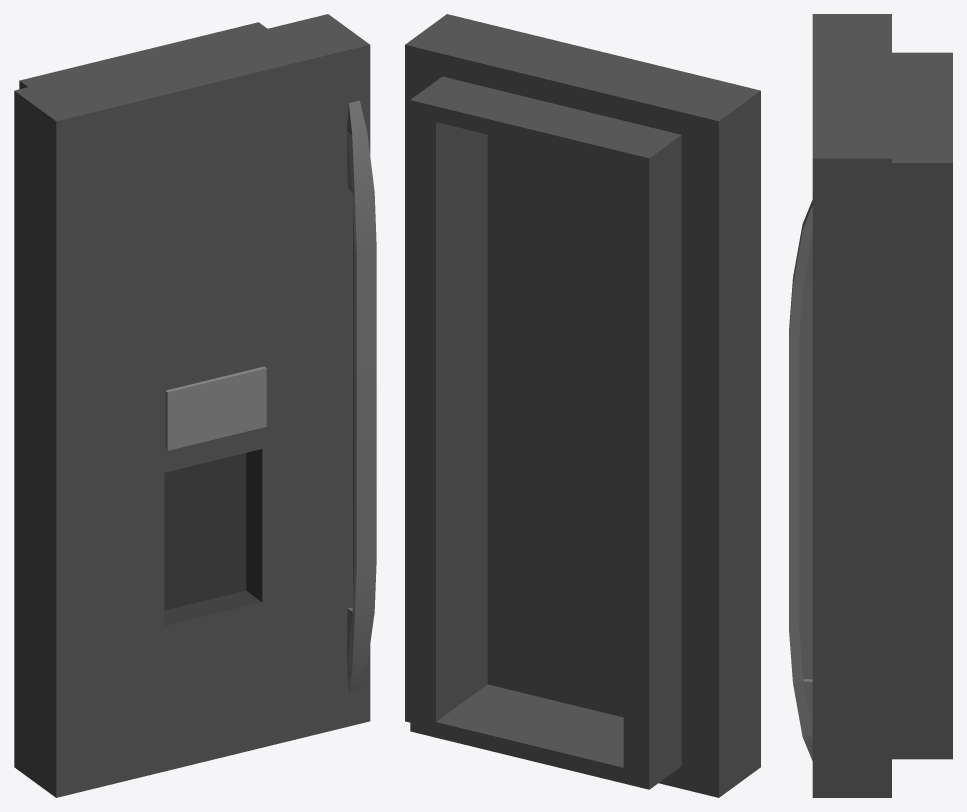
The model's file is Itr_Obj_Fridge1_Top_Door_Left_06.FBX.
3 views of the same model, side by side, from view 1: azimuth 30°, elevation 25°; view 2: azimuth 150°, elevation 25°; view 3: azimuth 270°, elevation 25° (orthographic). The views are drawn at different scales.
Visible parts, largest first — view 1: Itr_Obj_Fridge1_Top_Door_Left_06; view 2: Itr_Obj_Fridge1_Top_Door_Left_06; view 3: Itr_Obj_Fridge1_Top_Door_Left_06.
Part boxes in pixels (x1,y1,x2,y2): Itr_Obj_Fridge1_Top_Door_Left_06: (14, 14, 376, 797); Itr_Obj_Fridge1_Top_Door_Left_06: (405, 14, 760, 797); Itr_Obj_Fridge1_Top_Door_Left_06: (789, 14, 952, 797).
Bounding box in the file's own units: 22.45 × 46.23 × 10.74.
